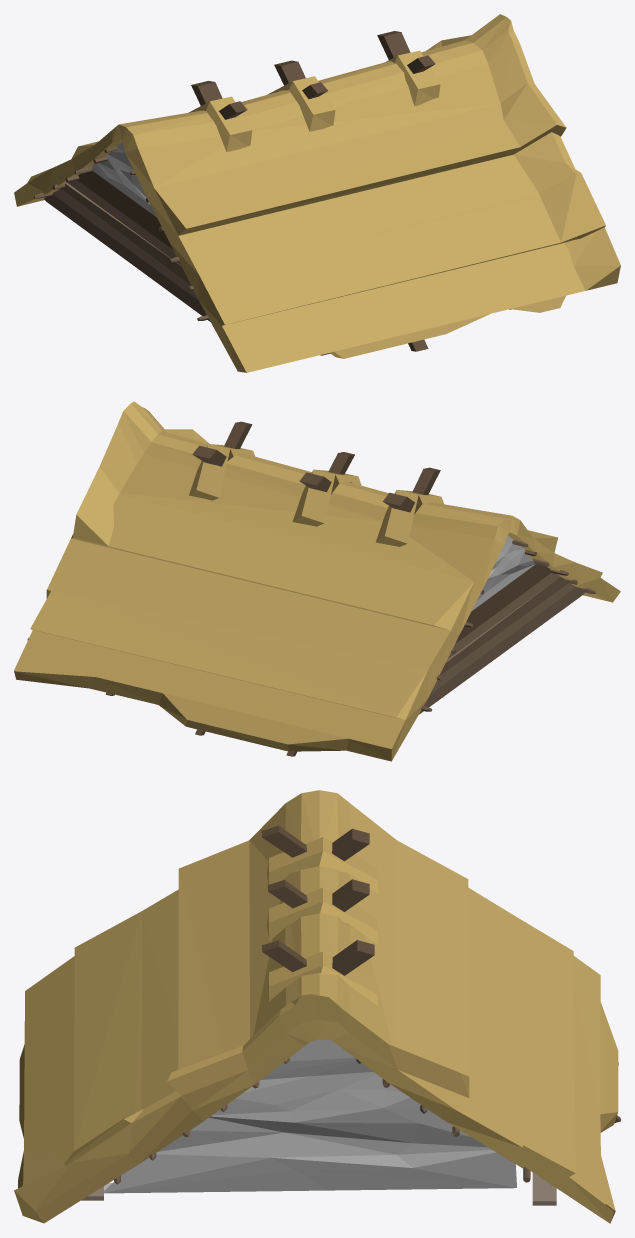
File: EA03_Village_Hut_Roof_Cut_01c.glb
3 renders of one model, top to bottom at view 1: azimuth 30°, elevation 25°; view 2: azimuth 150°, elevation 25°; view 3: azimuth 270°, elevation 25°, orthographic. The views are drawn at different scales.
Visible parts, largest first — view 1: EA03_Village_Hut_Roof_Cut_01c; view 2: EA03_Village_Hut_Roof_Cut_01c; view 3: EA03_Village_Hut_Roof_Cut_01c.
Boxes of the visible parts, bbox=[...] form: EA03_Village_Hut_Roof_Cut_01c: bbox=[14, 14, 620, 372]; EA03_Village_Hut_Roof_Cut_01c: bbox=[14, 401, 620, 761]; EA03_Village_Hut_Roof_Cut_01c: bbox=[14, 790, 620, 1223].
Bounding box in the file's own units: 10.54 × 5.22 × 11.37.
Materials: 1 (1 with a texture image).
